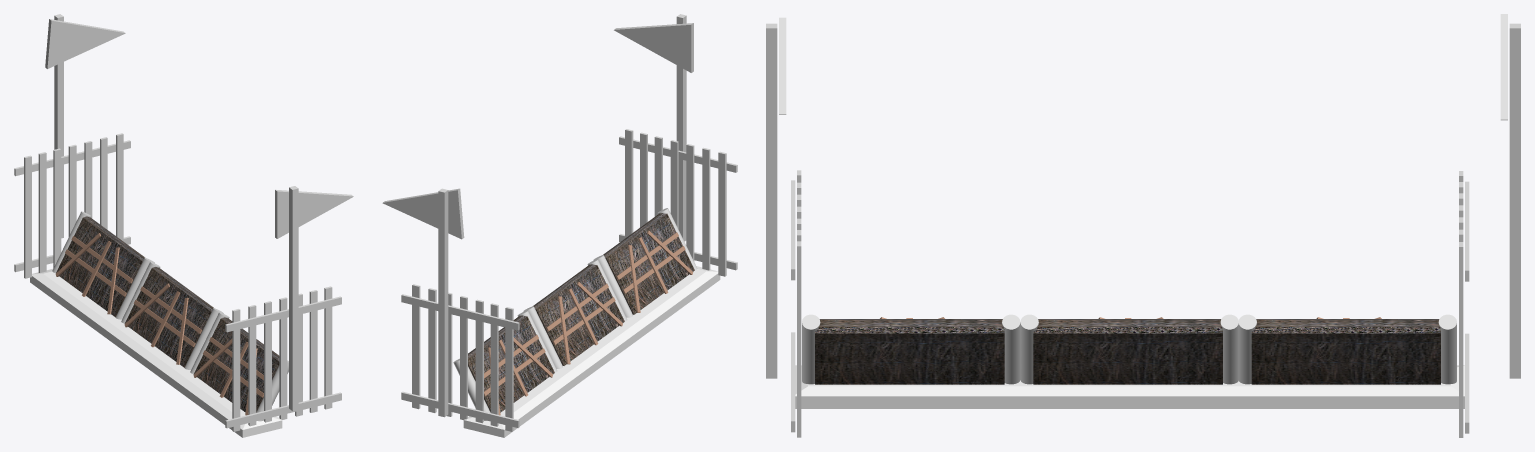
Rendered from moofence.FBX.
The picture shows the model from 3 angles, left to right: view 1: azimuth 30°, elevation 25°; view 2: azimuth 150°, elevation 25°; view 3: azimuth 270°, elevation 25°; orthographic projection. The views are drawn at different scales.
Visible parts, largest first — view 1: Box117, Box48, Box23, Box54, Box111, Box114, Box112, Box113, Box26, Box27, Box34, Box25 (+18 smaller); view 2: Box117, Box48, Box54, Box23, Box113, Box112, Box114, Box111, Box36, Box37, Box38, Box31 (+16 smaller); view 3: Box117, Box54, Box48, Box23, Box113, Box111, Cylinder11, Cylinder07, Cylinder09, Cylinder08, Cylinder06, Box42 (+4 smaller).
Boxes of the visible parts, x1,y1,x2,y2 form: Box117: (30,269,282,437); Box48: (124,267,213,367); Box23: (56,216,144,317); Box54: (193,317,279,412); Box111: (289,186,298,410); Box114: (45,19,125,68); Box112: (275,189,353,238); Box113: (54,14,63,238); Box26: (38,152,46,272); Box27: (53,148,61,268); Box34: (225,392,341,428); Box25: (24,155,31,278); Box117: (463,266,720,437); Box48: (533,264,624,365); Box54: (603,213,694,314); Box23: (468,315,554,412); Box113: (438,188,448,417); Box112: (614,23,693,72); Box114: (382,188,464,239); Box111: (676,14,686,241); Box36: (718,151,726,276); Box37: (702,147,710,270); Box38: (686,144,694,261); Box31: (401,391,519,427); Box117: (795,365,1464,408); Box54: (815,319,1004,384); Box48: (1033,319,1222,384); Box23: (1251,319,1440,384); Box113: (1509,23,1520,378); Box111: (766,23,777,378); Cylinder11: (1002,314,1020,384); Cylinder07: (1438,314,1456,384); Cylinder09: (1220,314,1238,384); Cylinder08: (1020,314,1038,384); Cylinder06: (1238,314,1256,384); Box42: (797,241,801,437).
Size of the model in its own units: 60.27 by 115 by 202.
Materials: 3 (1 with a texture image).
